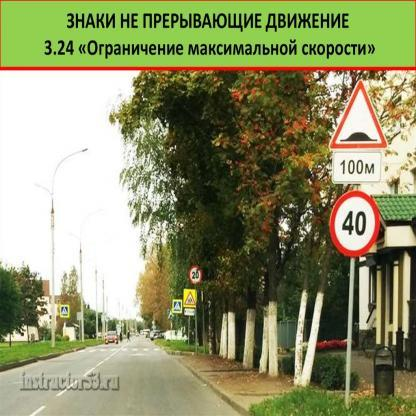obstructed_road_sign: (188, 264, 204, 284)
road_sign: (329, 80, 387, 149), (330, 190, 380, 255), (332, 152, 381, 182)
